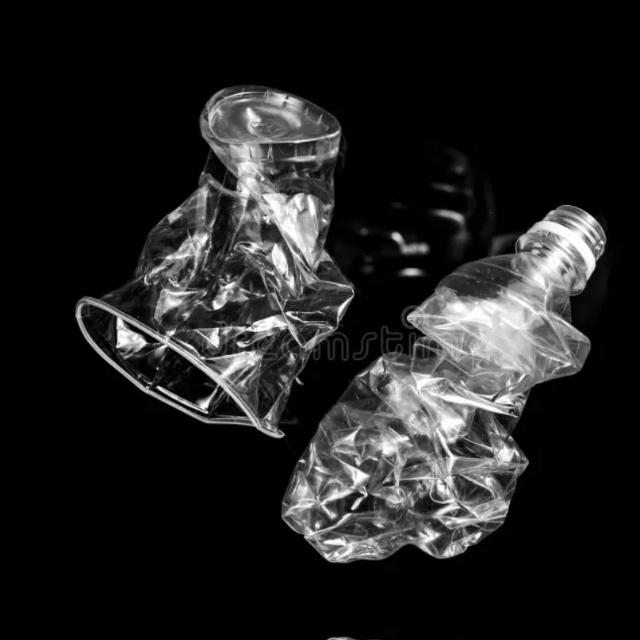Plastic: (276, 192, 622, 572), (71, 62, 361, 440), (276, 625, 621, 640), (71, 0, 361, 17)
